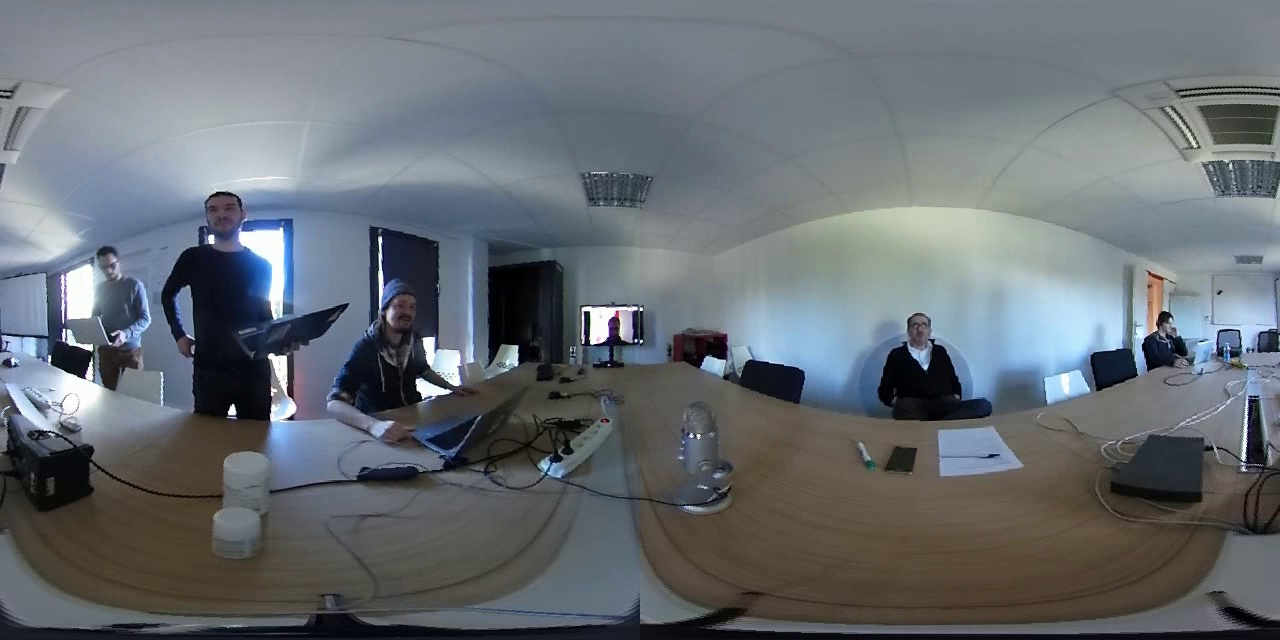person: (153, 174, 286, 394), (346, 270, 440, 400), (870, 303, 976, 415), (71, 234, 152, 380), (1137, 298, 1194, 371), (583, 304, 640, 346)
